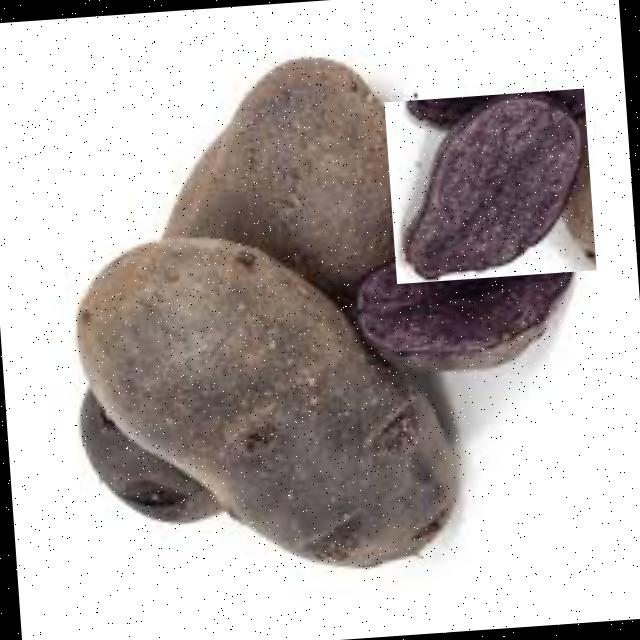Damaged potato: (61, 206, 478, 584)
Defected potato: (384, 87, 596, 283)
